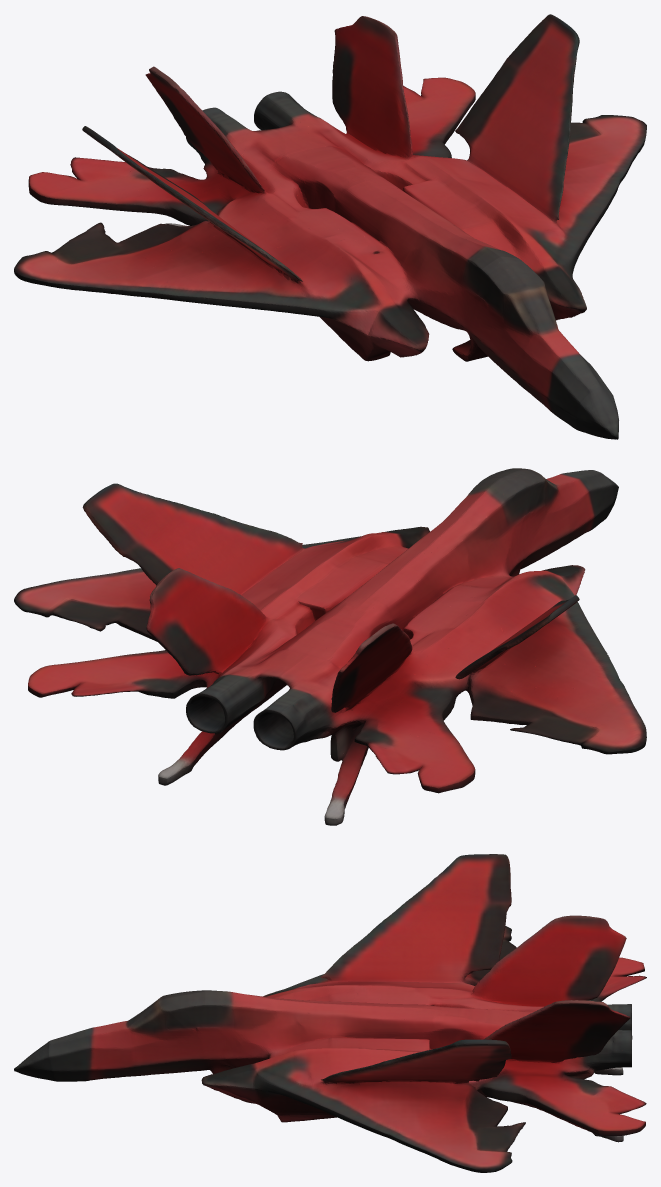
Rendered from enemy_jet.glb.
3 views of the same model, one above another, from view 1: azimuth 30°, elevation 25°; view 2: azimuth 150°, elevation 25°; view 3: azimuth 270°, elevation 25° (orthographic). The views are drawn at different scales.
Visible parts, largest first — view 1: world; view 2: world; view 3: world.
Boxes of the visible parts, x1,y1,x2,y2 form: world: (14,14,646,439); world: (14,468,646,825); world: (14,854,646,1172).
Size of the model in its own units: 0.9281 by 0.2775 by 0.9931.
Materials: 1 (1 with a texture image).
